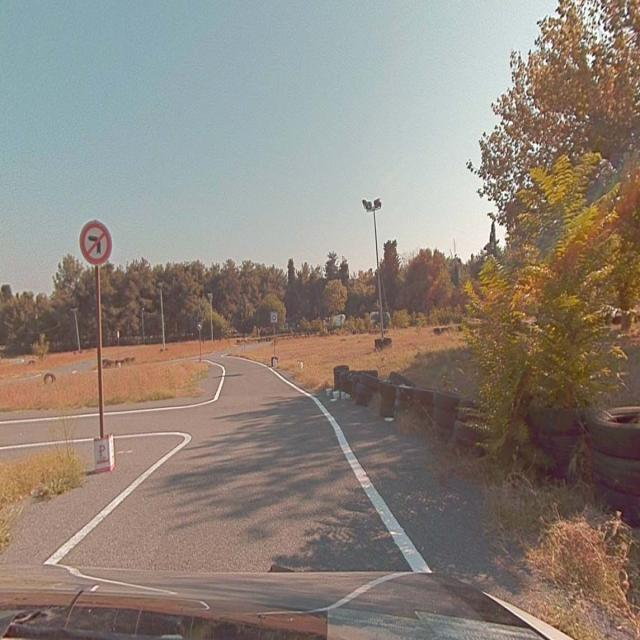durak: (271, 312, 277, 323)
soladonulmez: (80, 222, 110, 263)
